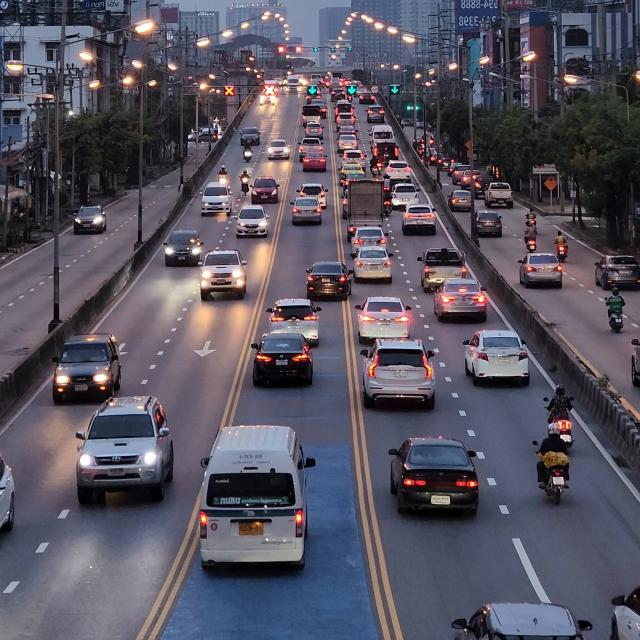Car: (198, 424, 314, 575), (76, 394, 172, 504), (385, 442, 480, 515), (360, 338, 436, 408), (52, 331, 120, 404), (460, 328, 528, 384), (248, 333, 314, 384), (257, 296, 323, 342), (353, 296, 411, 342), (200, 245, 248, 299), (432, 280, 488, 320), (307, 262, 353, 306), (161, 224, 203, 269), (519, 252, 563, 288), (352, 252, 391, 280)
